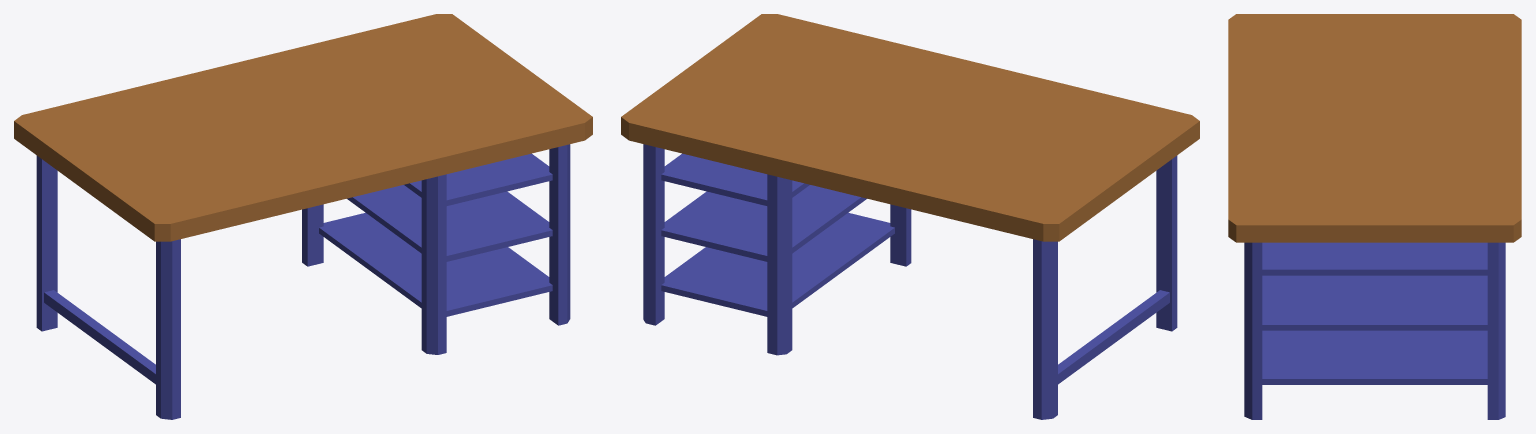
File: SM_table_print_01.fbx
3 views of the same model, side by side, from view 1: azimuth 30°, elevation 25°; view 2: azimuth 150°, elevation 25°; view 3: azimuth 270°, elevation 25° (orthographic).
Visible parts, largest first — view 1: stol_print_desk_01, stol_print_legs_01; view 2: stol_print_desk_01, stol_print_legs_01; view 3: stol_print_desk_01, stol_print_legs_01.
Part boxes in pixels (bbox=[...]): stol_print_desk_01: bbox=[14, 14, 592, 241]; stol_print_legs_01: bbox=[36, 144, 570, 419]; stol_print_desk_01: bbox=[621, 14, 1199, 241]; stol_print_legs_01: bbox=[643, 144, 1177, 419]; stol_print_desk_01: bbox=[1228, 14, 1521, 242]; stol_print_legs_01: bbox=[1244, 242, 1505, 419].
Size of the model in its own units: 205 by 91.43 by 121.
